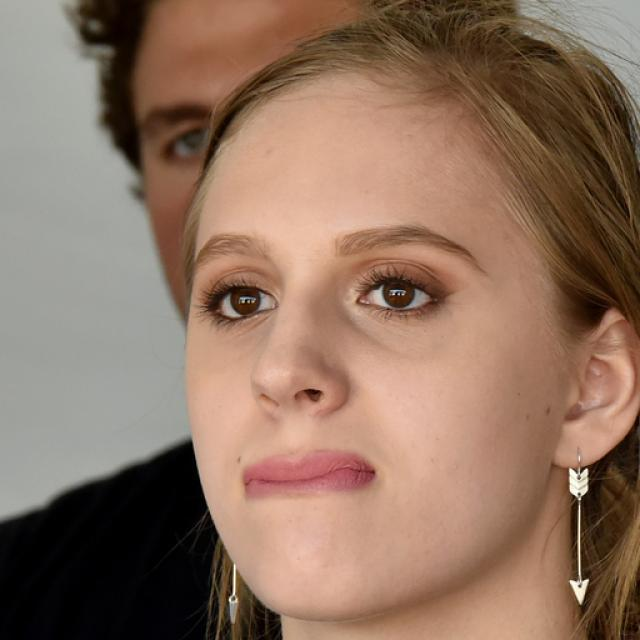0_rostro_limpio: (180, 14, 640, 618)
